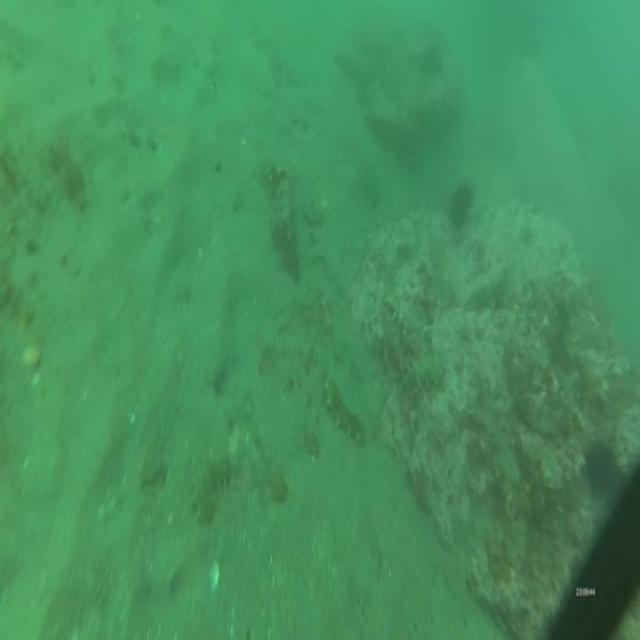echinus: (589, 433, 623, 507), (450, 175, 472, 231)
holothurian: (196, 447, 239, 526), (323, 376, 369, 449), (396, 354, 451, 395)
